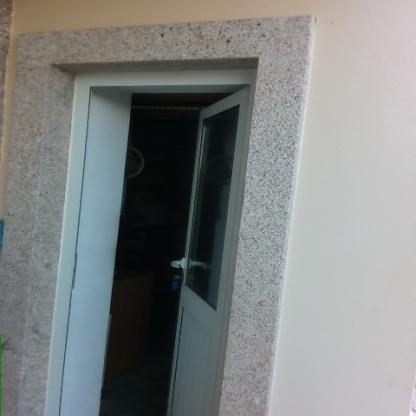semi: (58, 51, 273, 416)
